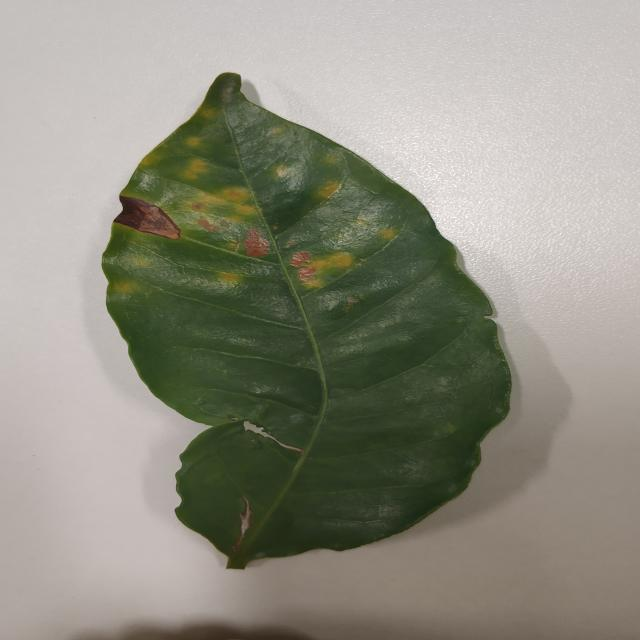Enfermedad-Roya: (100, 73, 518, 572)
